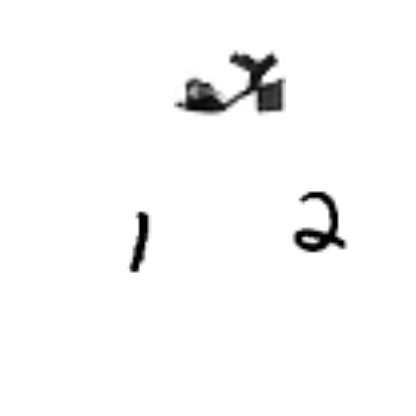1: (97, 197, 181, 281)
2: (278, 183, 362, 267)
Sandal: (174, 27, 286, 139)
